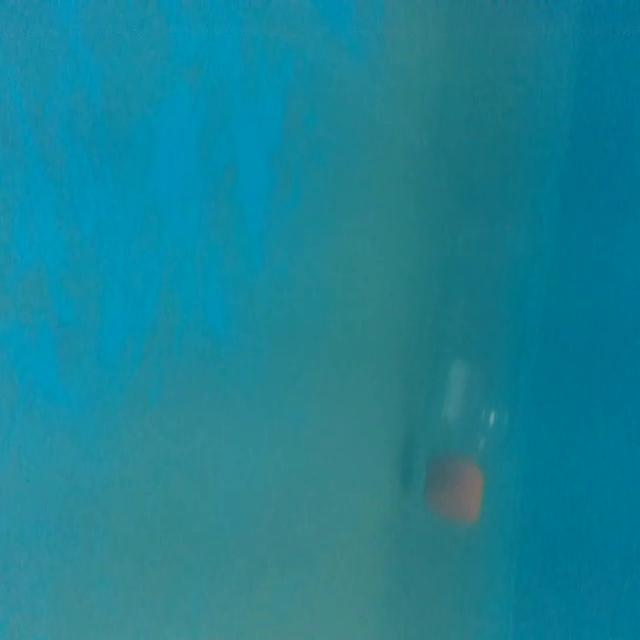plastic bottle: (415, 240, 520, 530)
